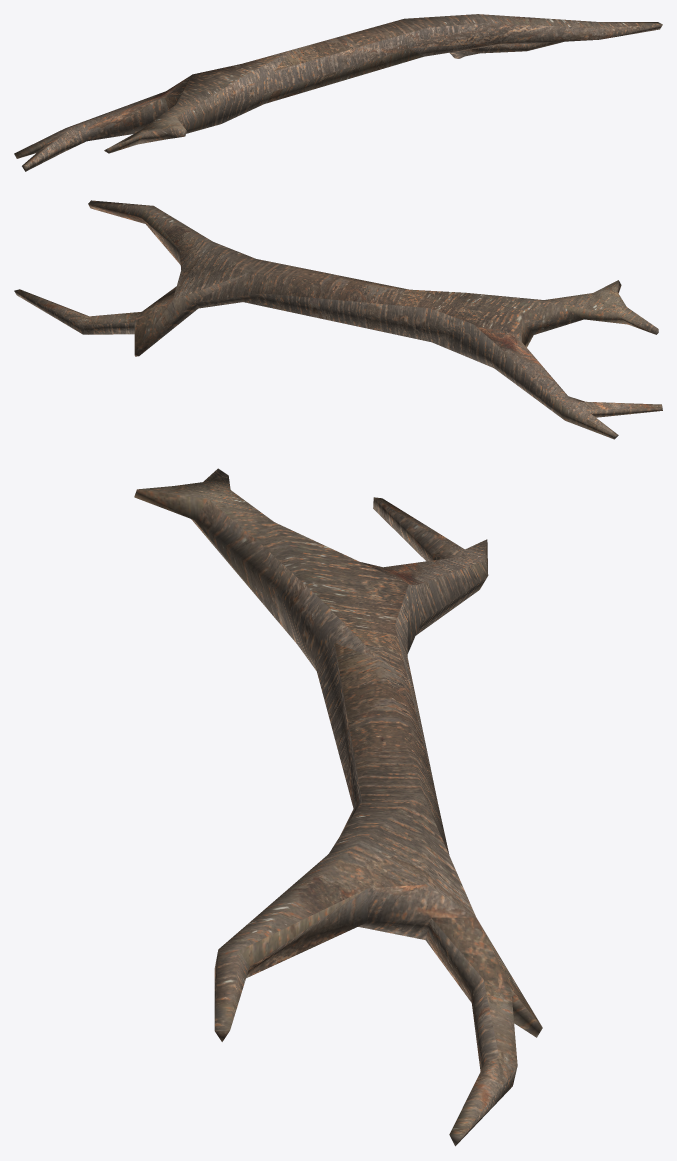
File: Branch 1.fbx
3 renders of one model, top to bottom at view 1: azimuth 30°, elevation 25°; view 2: azimuth 150°, elevation 25°; view 3: azimuth 270°, elevation 25°, orthographic. The views are drawn at different scales.
Visible parts, largest first — view 1: Plane; view 2: Plane; view 3: Plane.
Boxes of the visible parts, x1=… form: Plane: x1=14, y1=14, x2=662, y2=171; Plane: x1=14, y1=200, x2=662, y2=439; Plane: x1=134, y1=468, x2=542, y2=1146.
Size of the model in its own units: 1719 by 248 by 497.
